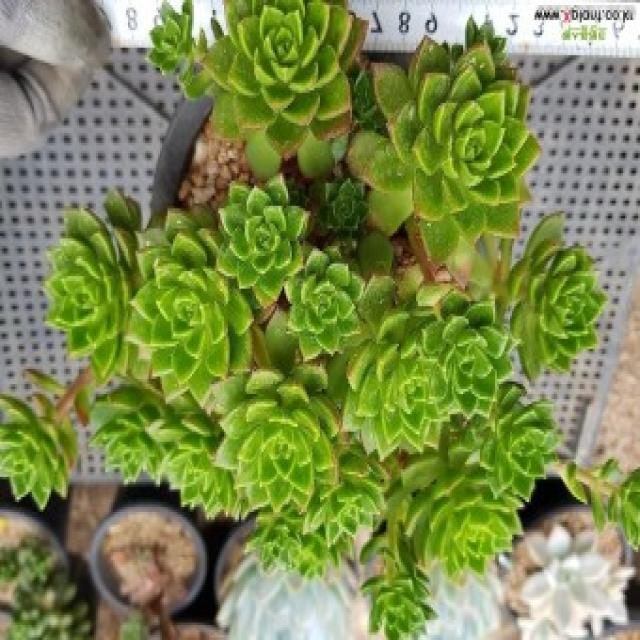Letizia: (348, 31, 539, 263), (204, 3, 361, 157), (129, 213, 252, 403), (391, 426, 521, 580), (218, 363, 339, 510), (508, 216, 606, 378), (45, 209, 131, 383), (218, 176, 309, 307), (421, 293, 511, 415), (472, 384, 561, 500), (0, 396, 76, 508), (285, 249, 362, 358), (150, 3, 192, 73)
